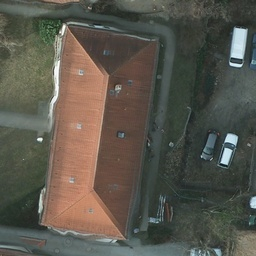car: (228, 24, 248, 68), (200, 127, 219, 162), (218, 136, 238, 168)
